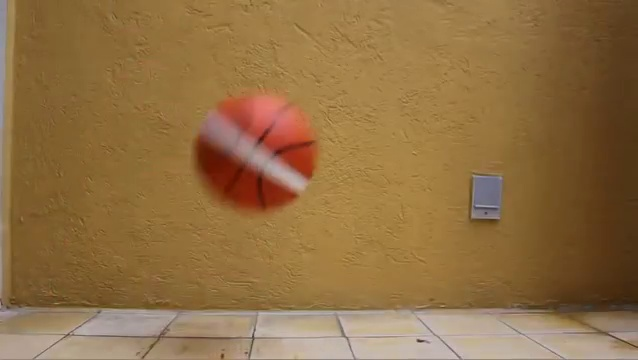ball: (194, 91, 319, 217)
